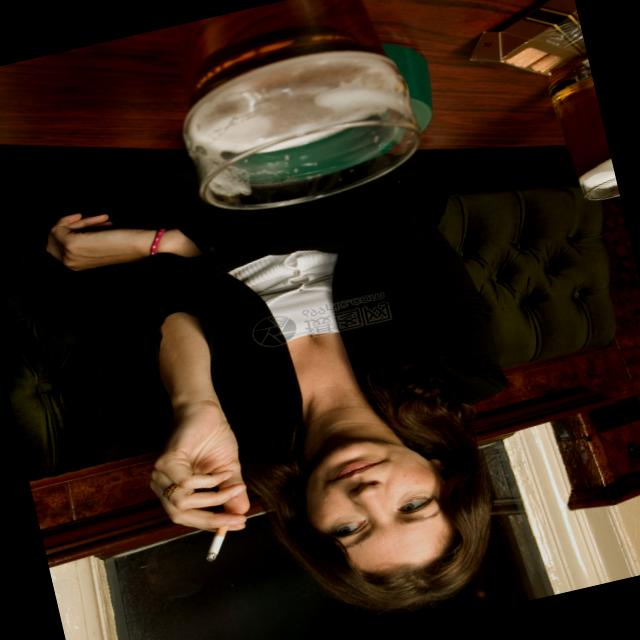smoke: (196, 525, 238, 564)
